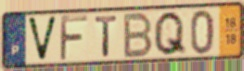0: (189, 8, 216, 57)
B: (122, 10, 155, 60)
F: (58, 14, 90, 63)
Q: (152, 10, 188, 58)
T: (94, 14, 119, 58)
V: (25, 15, 59, 63)
